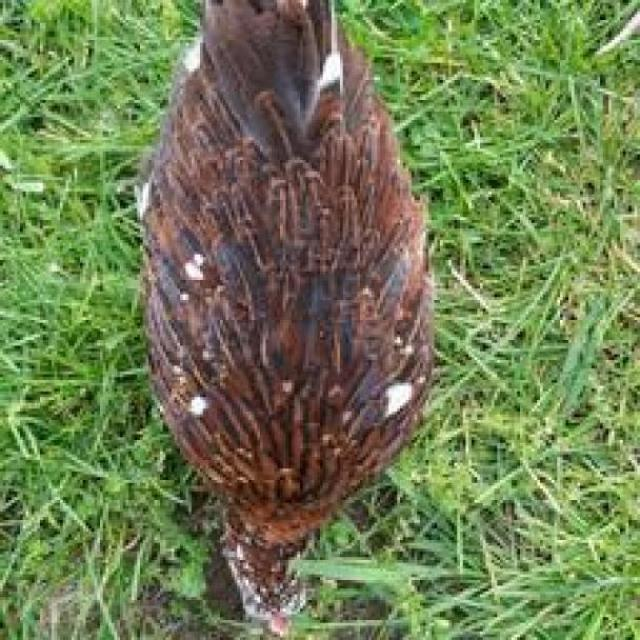Chicken: (93, 0, 468, 611)
